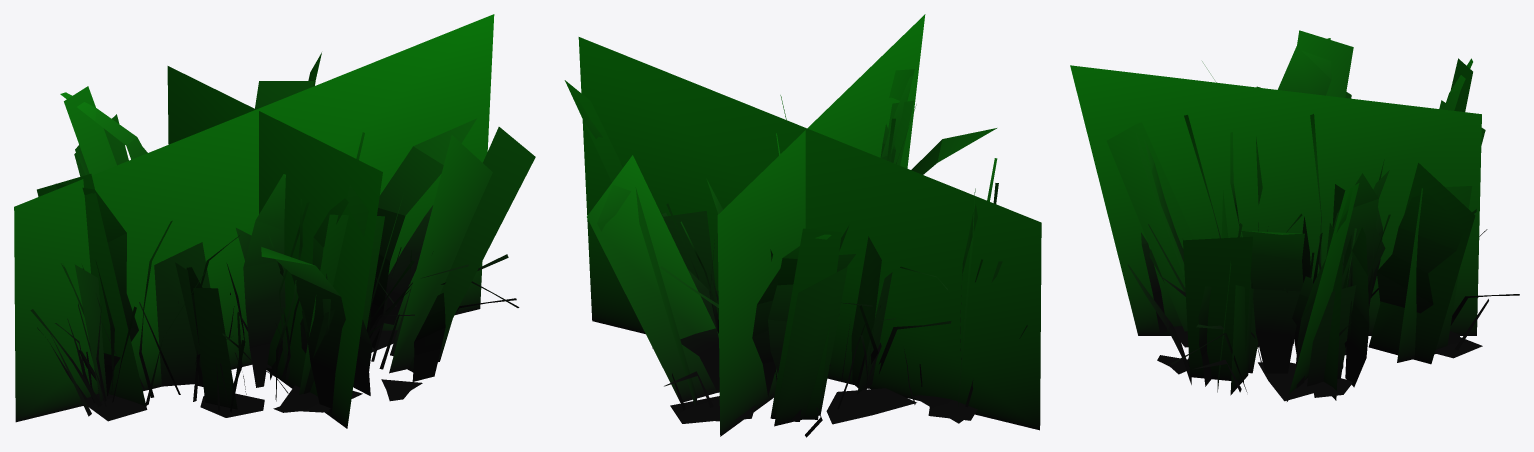
File: MSH_Field_Grass_C.fbx
3 renders of one model, left to right at view 1: azimuth 30°, elevation 25°; view 2: azimuth 150°, elevation 25°; view 3: azimuth 270°, elevation 25°, orthographic. The views are drawn at different scales.
Parts seen in each view (by area): view 1: Field_Grass_C_LOD2_GEO, Field_Grass_C_LOD1_GEO, Field_Grass_C_LOD0_GEO; view 2: Field_Grass_C_LOD2_GEO, Field_Grass_C_LOD1_GEO, Field_Grass_C_LOD0_GEO; view 3: Field_Grass_C_LOD2_GEO, Field_Grass_C_LOD1_GEO, Field_Grass_C_LOD0_GEO.
Part boxes in pixels (x1,y1,x2,y2): Field_Grass_C_LOD2_GEO: (14, 14, 494, 428); Field_Grass_C_LOD1_GEO: (30, 52, 535, 421); Field_Grass_C_LOD0_GEO: (37, 63, 476, 417); Field_Grass_C_LOD2_GEO: (578, 14, 1041, 436); Field_Grass_C_LOD1_GEO: (564, 69, 1002, 437); Field_Grass_C_LOD0_GEO: (567, 75, 1027, 424); Field_Grass_C_LOD2_GEO: (1070, 65, 1481, 335); Field_Grass_C_LOD1_GEO: (1106, 30, 1519, 401); Field_Grass_C_LOD0_GEO: (1127, 38, 1472, 401).
Bounding box in the file's own units: 71.74 × 42.29 × 60.88.
